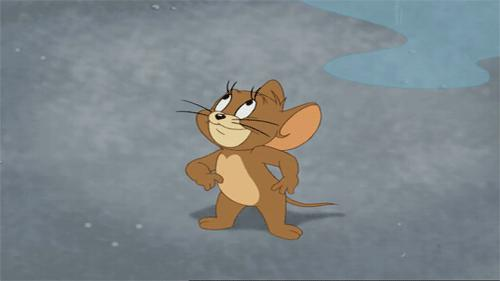jerry: (183, 79, 339, 241)
